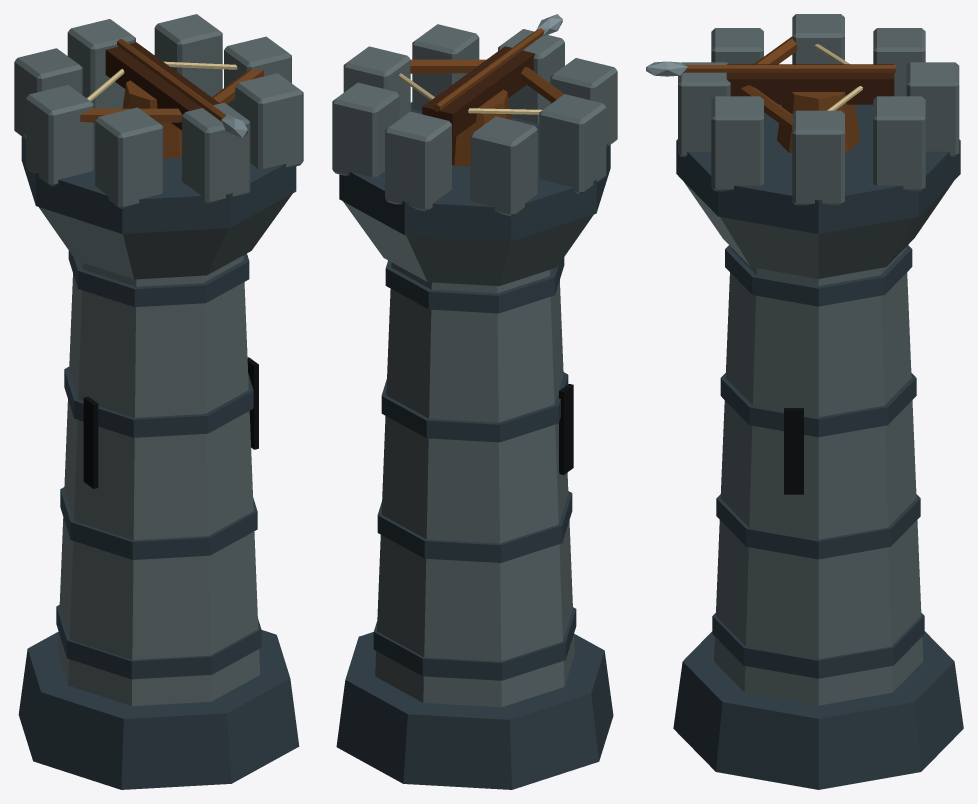
The model's file is ArrowTower.fbx.
The picture shows the model from 3 angles, left to right: view 1: azimuth 30°, elevation 25°; view 2: azimuth 150°, elevation 25°; view 3: azimuth 270°, elevation 25°; orthographic projection.
Parts seen in each view (by area): view 1: ArrowTower_Mesh, Turret_Mesh; view 2: ArrowTower_Mesh, Turret_Mesh; view 3: ArrowTower_Mesh, Turret_Mesh.
Boxes of the visible parts, x1,y1,x2,y2 form: ArrowTower_Mesh: [14, 14, 303, 789]; Turret_Mesh: [80, 39, 263, 158]; ArrowTower_Mesh: [332, 24, 617, 789]; Turret_Mesh: [399, 14, 563, 166]; ArrowTower_Mesh: [673, 14, 963, 789]; Turret_Mesh: [646, 36, 895, 153].
Size of the model in its own units: 0.94 by 2.38 by 1.03.
